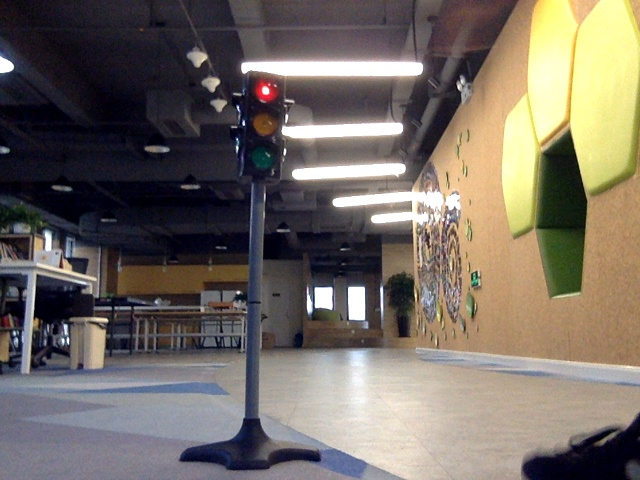red: (246, 77, 279, 172)
